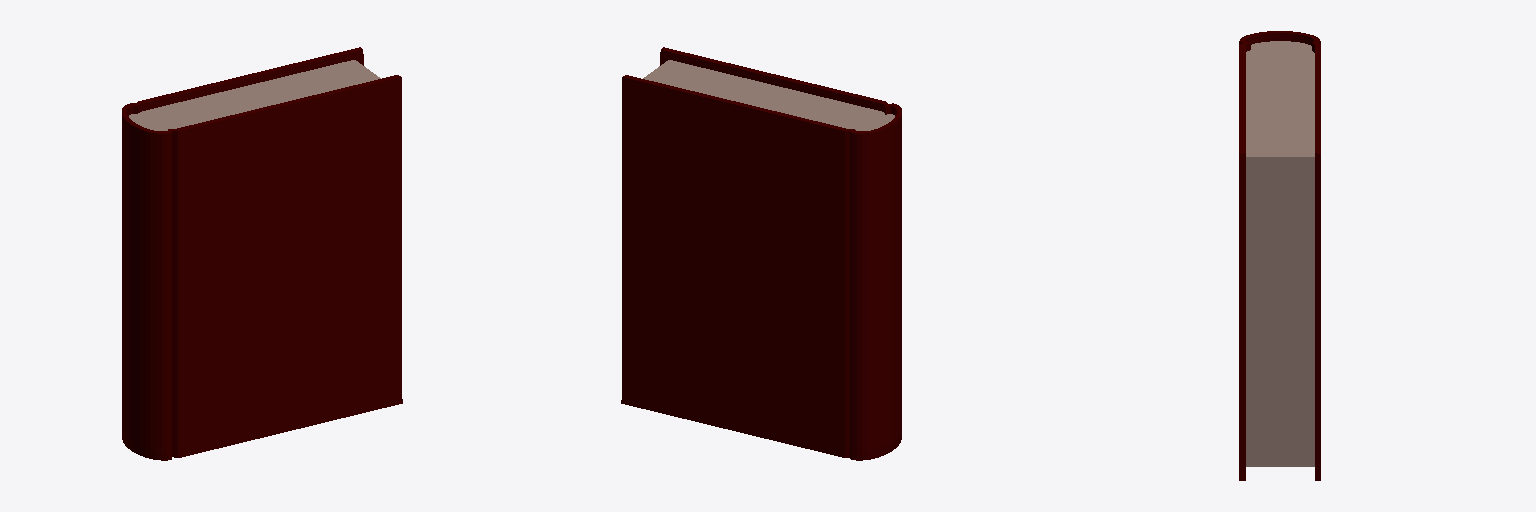
The model's file is boek.obj.
3 views of the same model, side by side, from view 1: azimuth 30°, elevation 25°; view 2: azimuth 150°, elevation 25°; view 3: azimuth 270°, elevation 25° (orthographic).
Parts seen in each view (by area): view 1: Kaft_Circle, Pagina's_Circle.001; view 2: Kaft_Circle, Pagina's_Circle.001; view 3: Pagina's_Circle.001, Kaft_Circle.
Boxes of the visible parts, box(x1,y1,x2,y2) form: Kaft_Circle: box(122, 47, 402, 460); Pagina's_Circle.001: box(129, 60, 380, 130); Kaft_Circle: box(621, 47, 901, 460); Pagina's_Circle.001: box(643, 60, 894, 130); Pagina's_Circle.001: box(1246, 41, 1314, 466); Kaft_Circle: box(1239, 31, 1320, 480).
Bounding box in the file's own units: 1.37 × 1.69 × 0.3823.